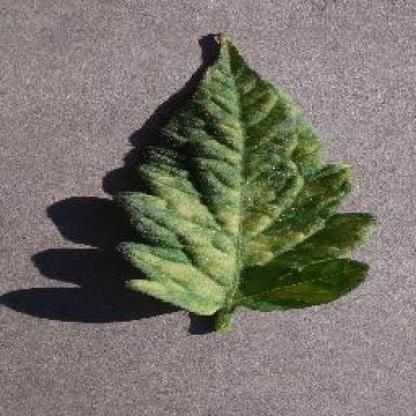Tomato_Leaf_Mold: (119, 34, 372, 312)
